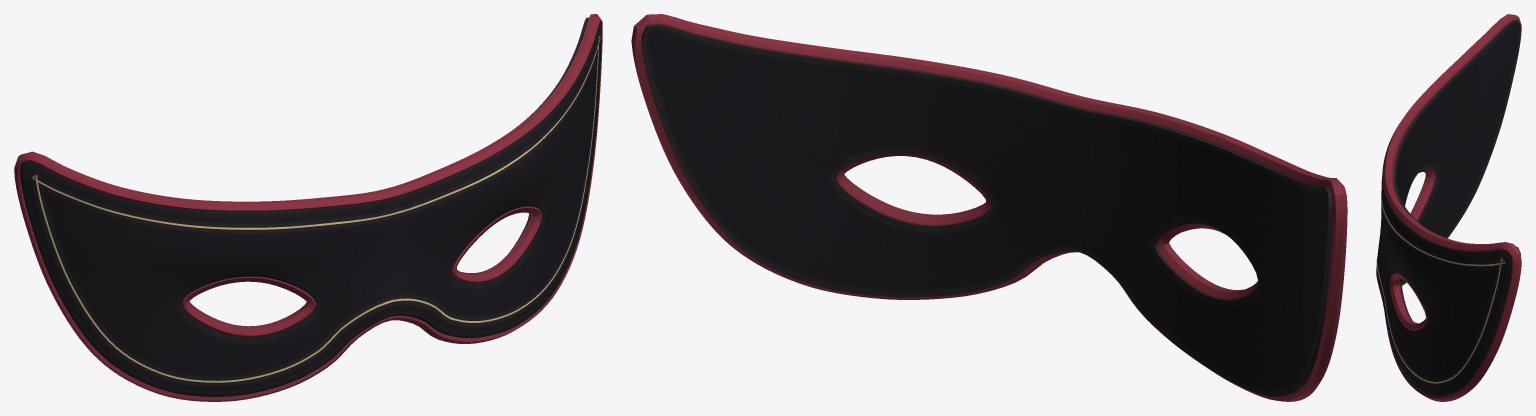
Rendered from NHAcc_DominoMask.fbx.
3 renders of one model, left to right at view 1: azimuth 30°, elevation 25°; view 2: azimuth 150°, elevation 25°; view 3: azimuth 270°, elevation 25°, orthographic. The views are drawn at different scales.
Parts seen in each view (by area): view 1: DominoMask; view 2: DominoMask; view 3: DominoMask.
Part boxes in pixels (<box>): DominoMask: <box>14,14,602,401</box>; DominoMask: <box>631,14,1347,401</box>; DominoMask: <box>1376,14,1521,401</box>.
Size of the model in its own units: 0.9639 by 0.3796 by 0.2493.
Materials: 1 (1 with a texture image).
